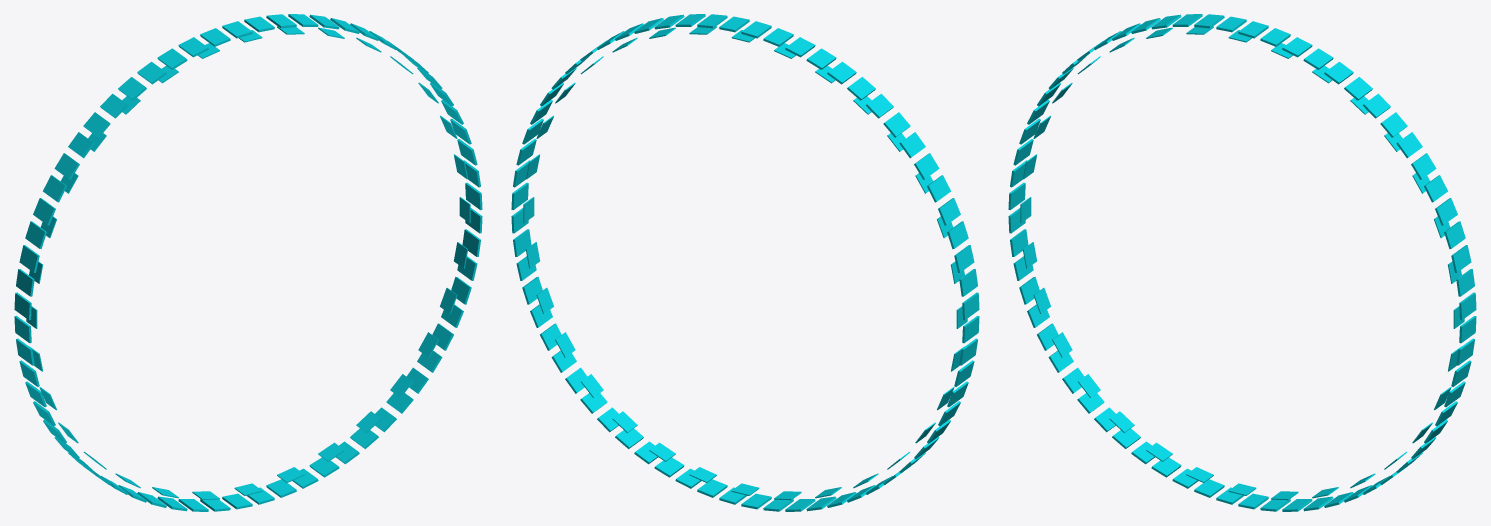
File: BackgroundRingColor.fbx
3 renders of one model, left to right at view 1: azimuth 30°, elevation 25°; view 2: azimuth 150°, elevation 25°; view 3: azimuth 330°, elevation 25°, orthographic.
Visible parts, largest first — view 1: polySurface332; view 2: polySurface332; view 3: polySurface332.
Boxes of the visible parts, bbox=[...] form: polySurface332: bbox=[14, 14, 482, 511]; polySurface332: bbox=[511, 14, 979, 511]; polySurface332: bbox=[1008, 14, 1476, 511].
Size of the model in its own units: 23.01 by 23.01 by 1.27.
